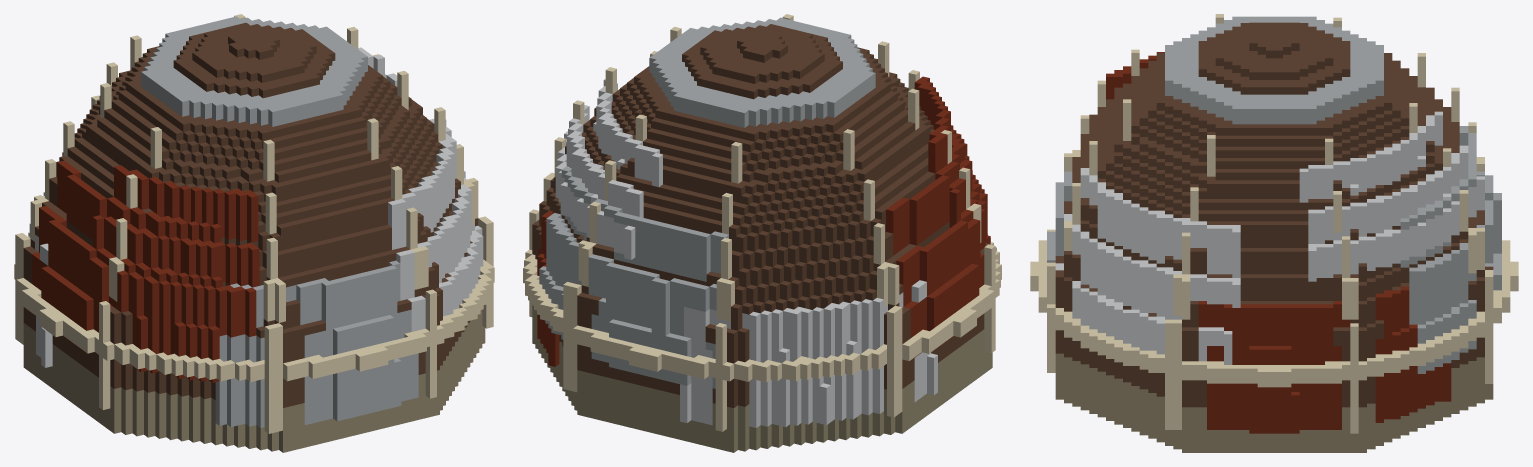
Rendered from helmet_scrap.glb.
The picture shows the model from 3 angles, left to right: view 1: azimuth 30°, elevation 25°; view 2: azimuth 150°, elevation 25°; view 3: azimuth 270°, elevation 25°; orthographic projection. The views are drawn at different scales.
Visible parts, largest first — view 1: helmet_scrap:compound; view 2: helmet_scrap:compound; view 3: helmet_scrap:compound.
Boxes of the visible parts, x1,y1,x2,y2 form: helmet_scrap:compound: (14, 14, 494, 452); helmet_scrap:compound: (523, 14, 1001, 452); helmet_scrap:compound: (1030, 14, 1518, 452).
Size of the model in its own units: 0.232 by 0.168 by 0.232.
